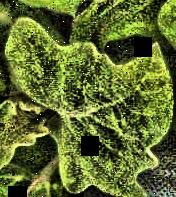Non-critical Stress: (0, 1, 176, 197)
